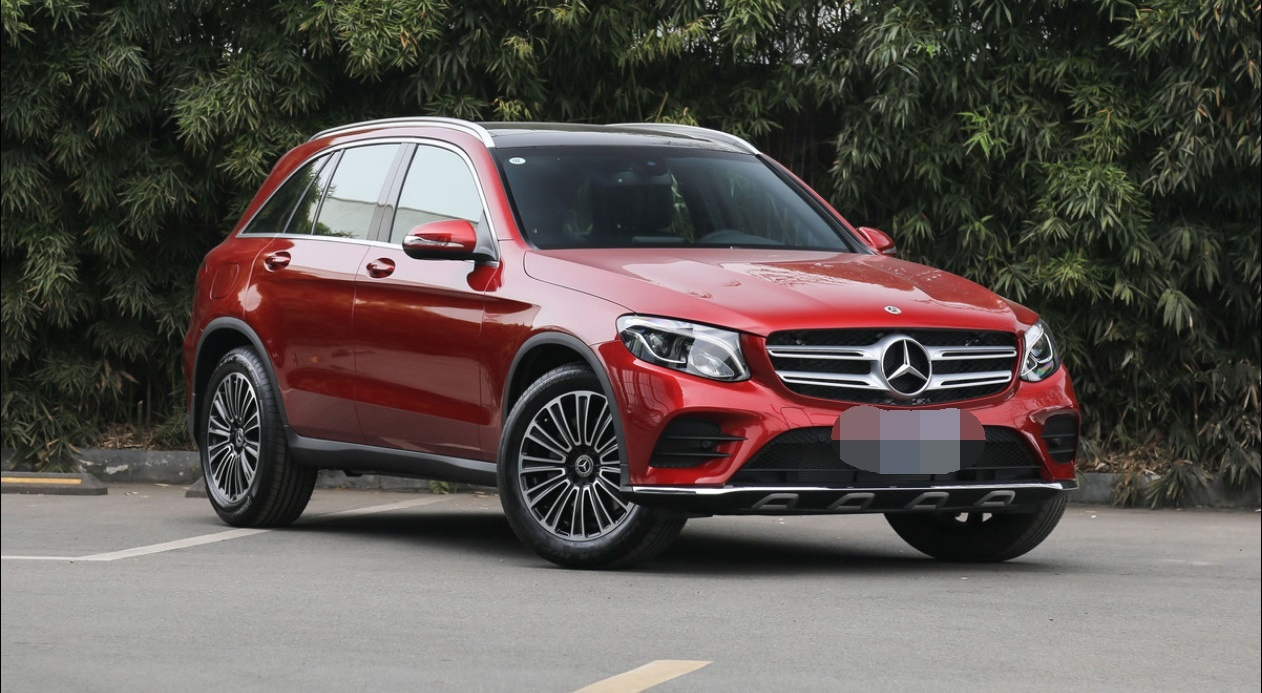SUV: (190, 92, 1082, 590)
